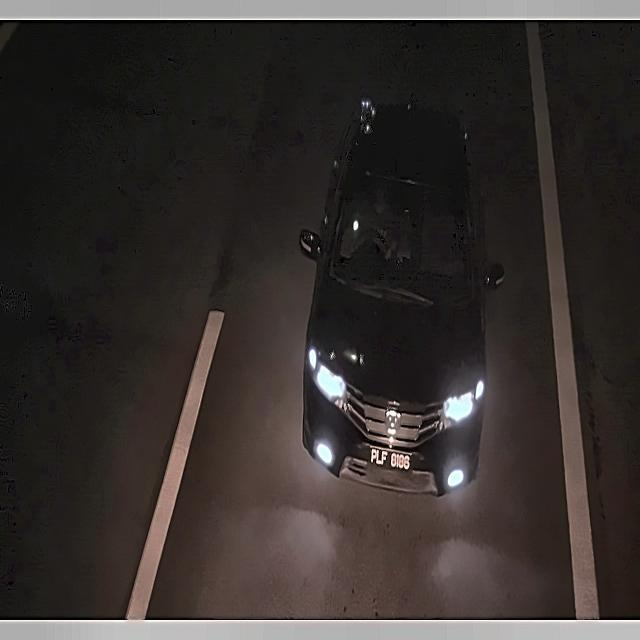car: (366, 437, 418, 481)
